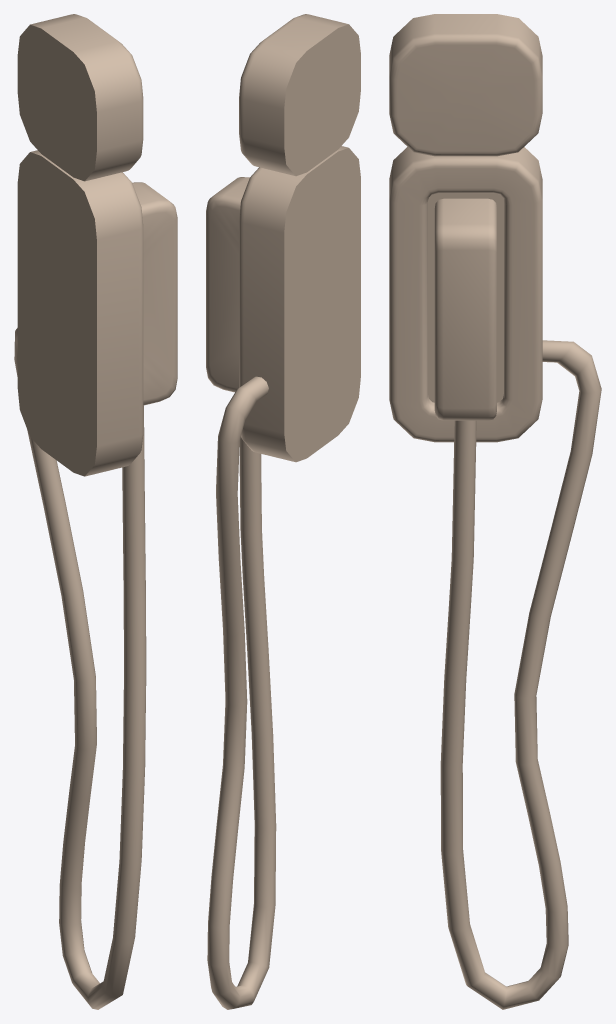
Rendered from Phone.FBX.
3 views of the same model, side by side, from view 1: azimuth 30°, elevation 25°; view 2: azimuth 150°, elevation 25°; view 3: azimuth 270°, elevation 25° (orthographic). The views are drawn at different scales.
Visible parts, largest first — view 1: Phone; view 2: Phone; view 3: Phone.
Boxes of the visible parts, left/top/right/bottom form: Phone: left=14, top=14, right=177, bottom=1009; Phone: left=206, top=14, right=360, bottom=1009; Phone: left=389, top=14, right=601, bottom=1009.
Bounding box in the file's own units: 3.03 × 27.04 × 5.39.
